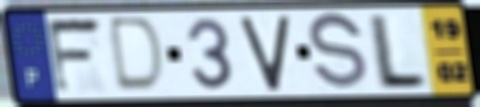3: (184, 15, 235, 93)
D: (108, 14, 168, 95)
F: (44, 15, 106, 97)
L: (369, 11, 430, 92)
S: (307, 10, 370, 95)
V: (237, 13, 292, 94)
